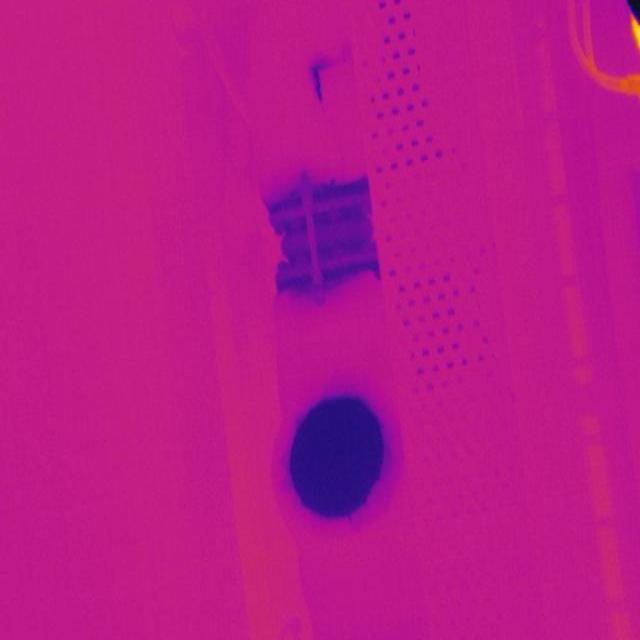leakage: (304, 46, 337, 98)
